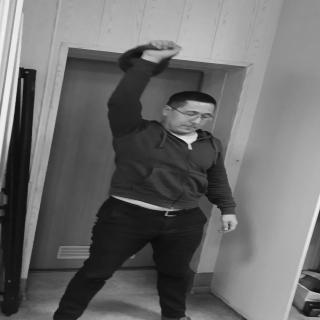girya: (122, 44, 176, 78)
